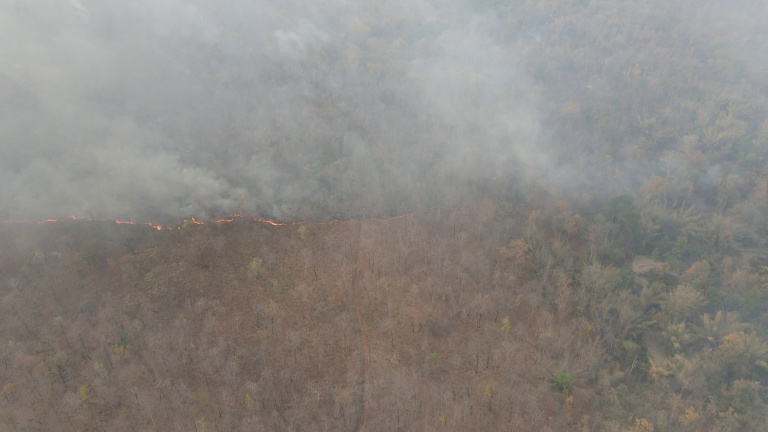fire: (1, 202, 494, 235)
smoke: (5, 1, 768, 221)
